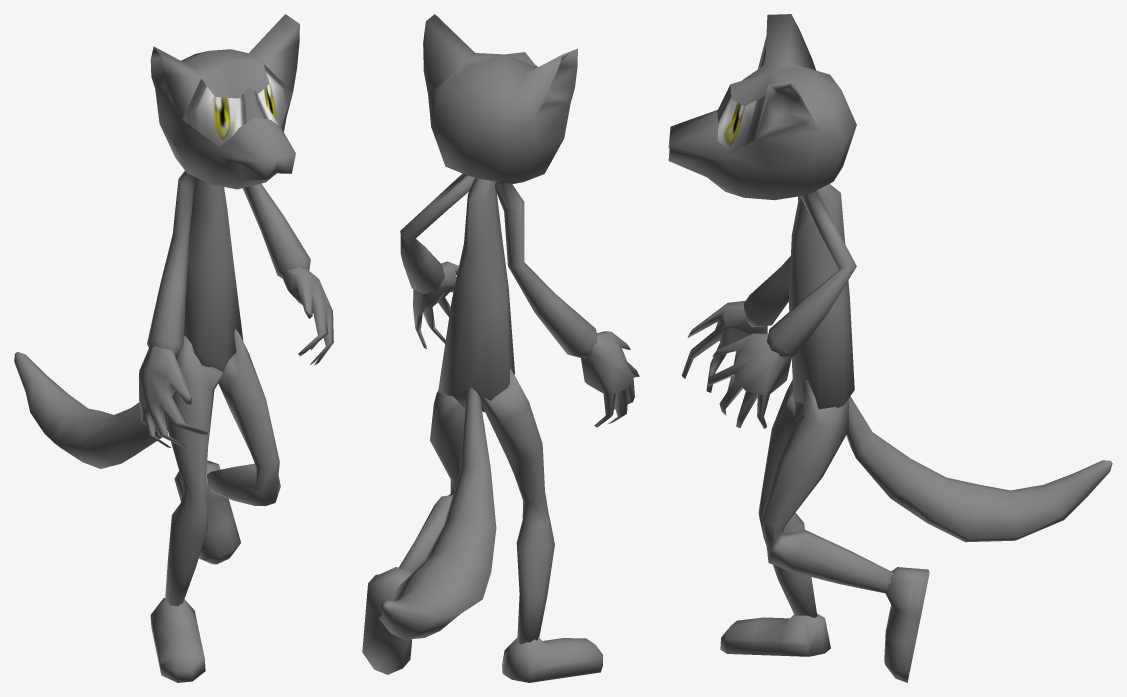
The model's file is werewolfrun3.obj.
The picture shows the model from 3 angles, left to right: view 1: azimuth 30°, elevation 25°; view 2: azimuth 150°, elevation 25°; view 3: azimuth 270°, elevation 25°; orthographic projection. The views are drawn at different scales.
Parts seen in each view (by area): view 1: Sphere001, Object001; view 2: Sphere001; view 3: Sphere001, Object001.
Part boxes in pixels (left/top/right/bottom): Sphere001: left=14, top=14, right=333, bottom=682; Object001: left=182, top=64, right=292, bottom=146; Sphere001: left=362, top=14, right=639, bottom=682; Sphere001: left=668, top=14, right=1112, bottom=682; Object001: left=717, top=85, right=765, bottom=153.
Bounding box in the file's own units: 53.96 × 162 × 103.
